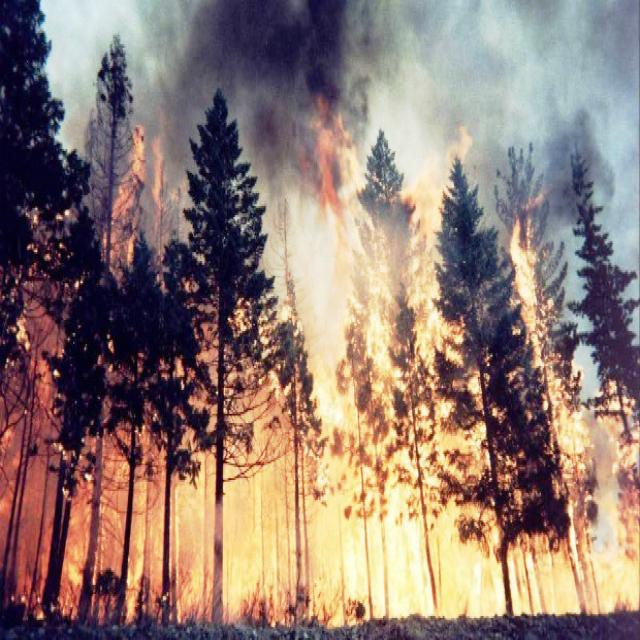api: (308, 104, 587, 516), (329, 523, 640, 632), (218, 456, 296, 628), (101, 120, 181, 276), (595, 373, 640, 622)
asap: (62, 1, 640, 394)
